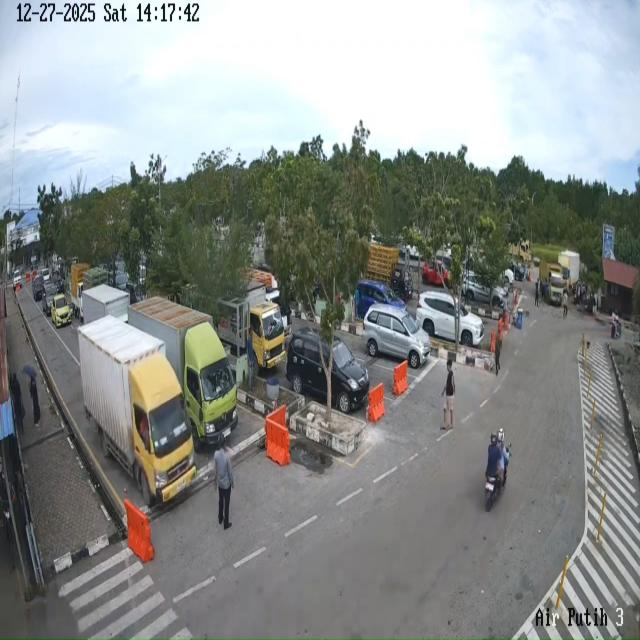Golongan IVA: (286, 327, 370, 414), (362, 304, 430, 369), (416, 290, 484, 347), (357, 280, 406, 318), (462, 272, 508, 308), (51, 294, 72, 328), (42, 282, 59, 316), (32, 274, 44, 301)
Golongan VB: (78, 315, 196, 506), (128, 297, 238, 448), (218, 281, 286, 368), (540, 259, 565, 306)
